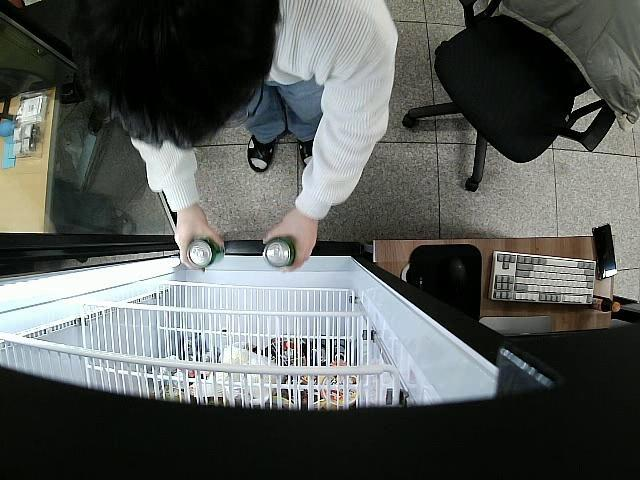12_chilsungCider: (262, 237, 298, 271), (186, 237, 224, 268)
